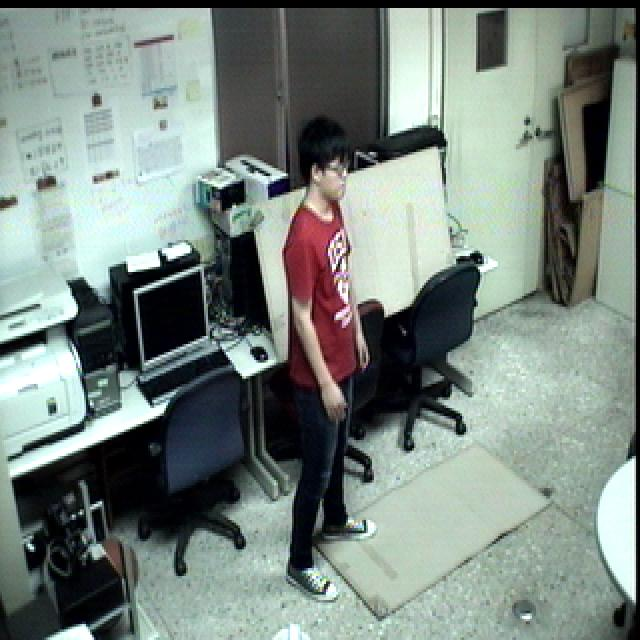stand: (280, 114, 385, 617)
